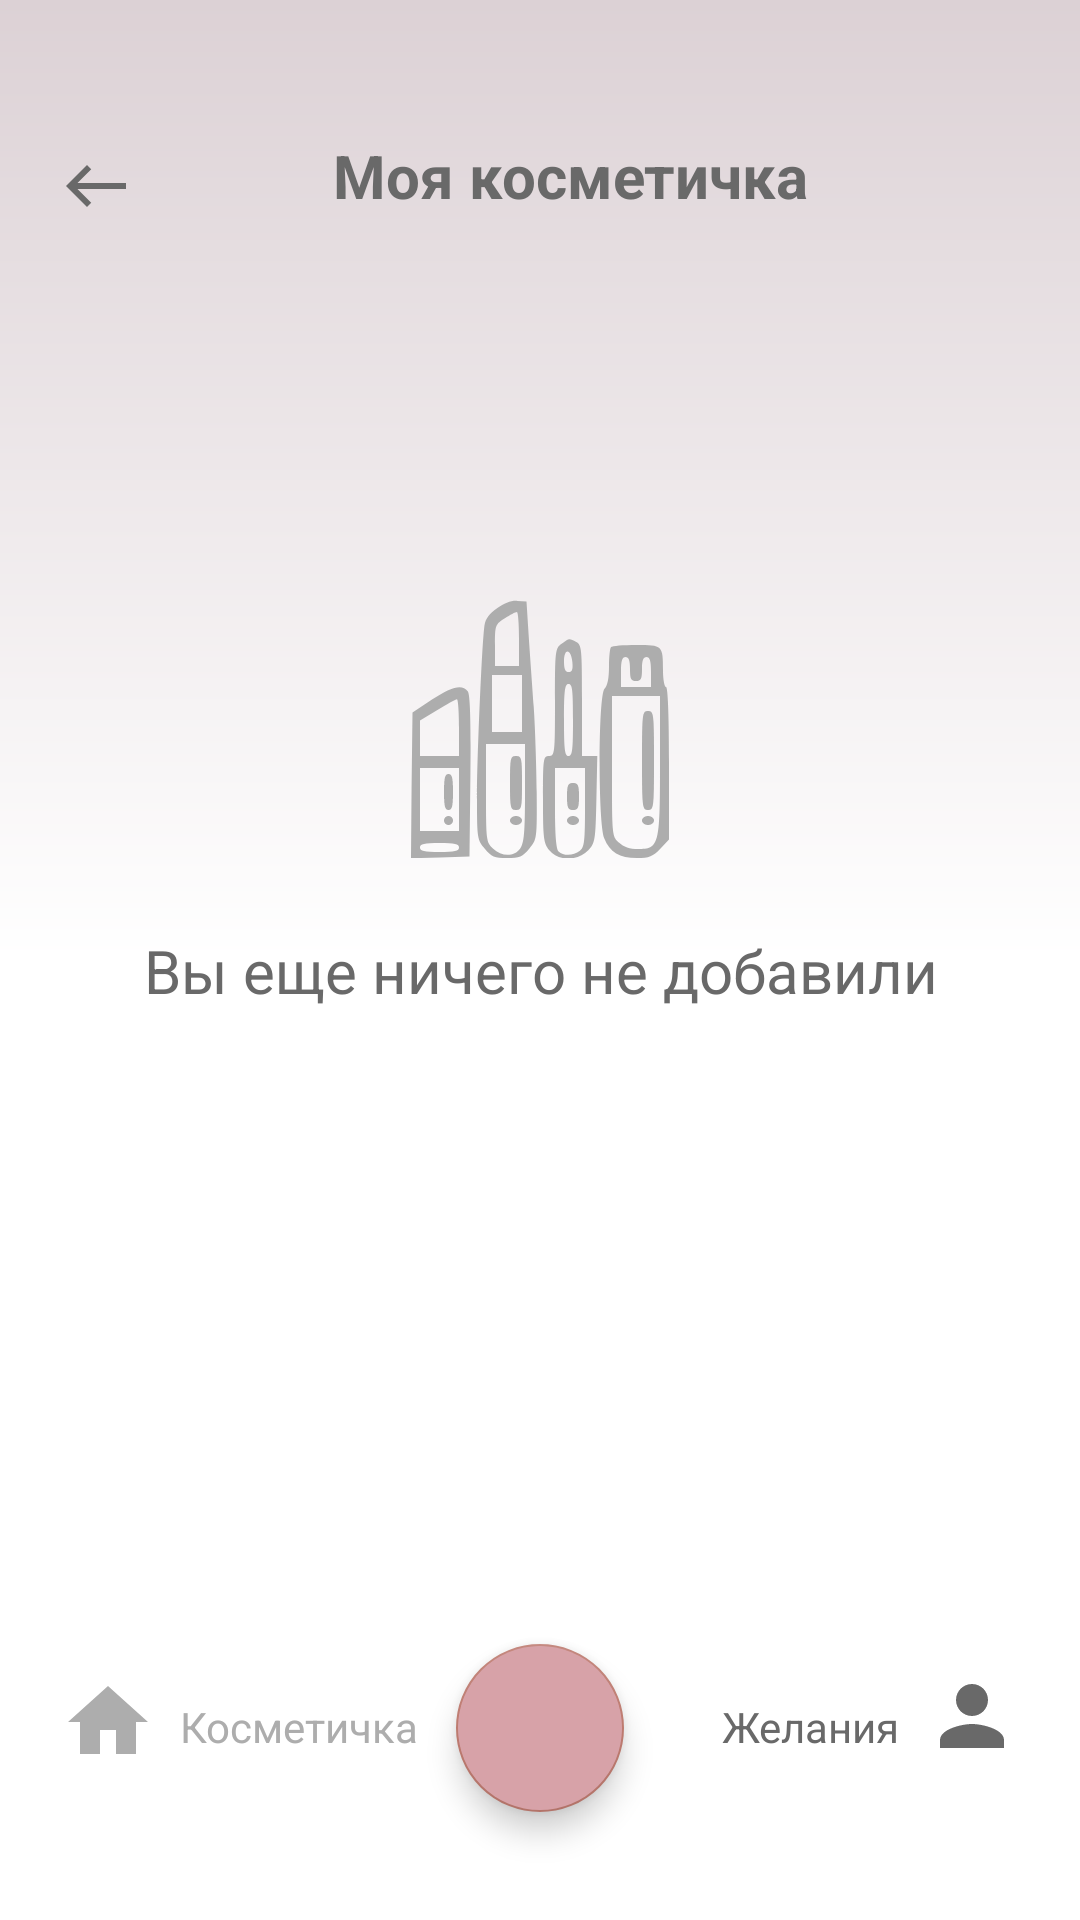

Locate icon controls on the screen. Image size 1080px×1920px, boxes as bbox(x1, y1, x2, y2).
emptycosmlist: bbox(411, 600, 669, 858)
home: bbox(68, 1686, 148, 1754)
left back: bbox(66, 165, 126, 207)
person: bbox(940, 1684, 1004, 1748)
